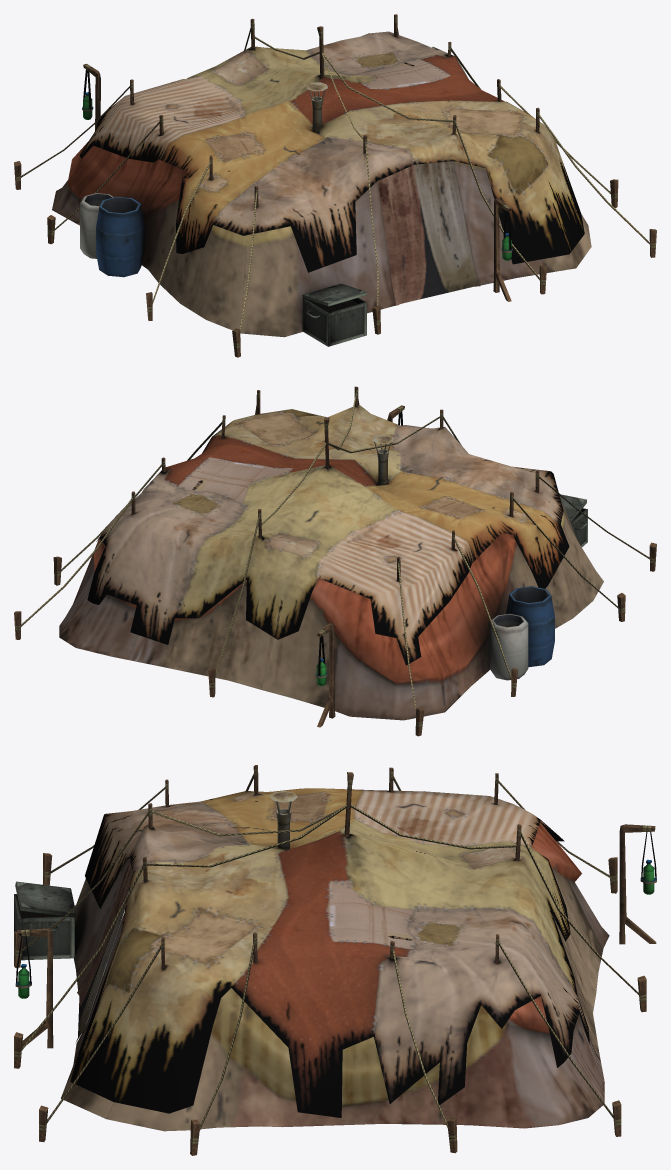
Rendered from tent.fbx.
3 views of the same model, one above another, from view 1: azimuth 30°, elevation 25°; view 2: azimuth 150°, elevation 25°; view 3: azimuth 270°, elevation 25° (orthographic). The views are drawn at different scales.
Visible parts, largest first — view 1: tent; view 2: tent; view 3: tent.
Boxes of the visible parts, box(x1,y1,x2,y2) form: tent: box(14, 14, 656, 357); tent: box(14, 386, 656, 736); tent: box(14, 765, 656, 1155).
Bounding box in the file's own units: 328 × 127 × 309.
